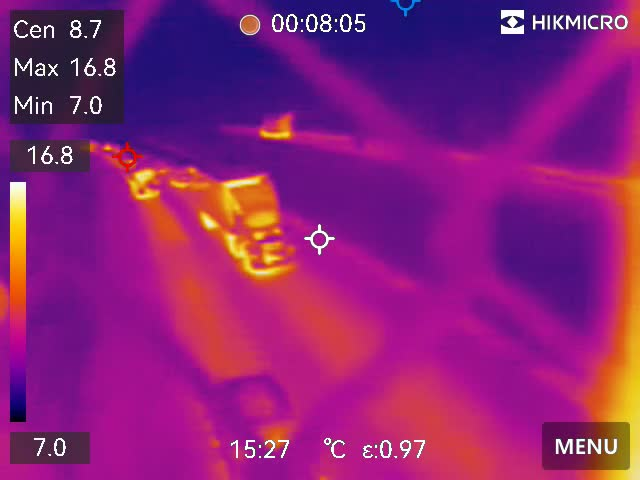heavyTruck: (201, 167, 296, 286)
